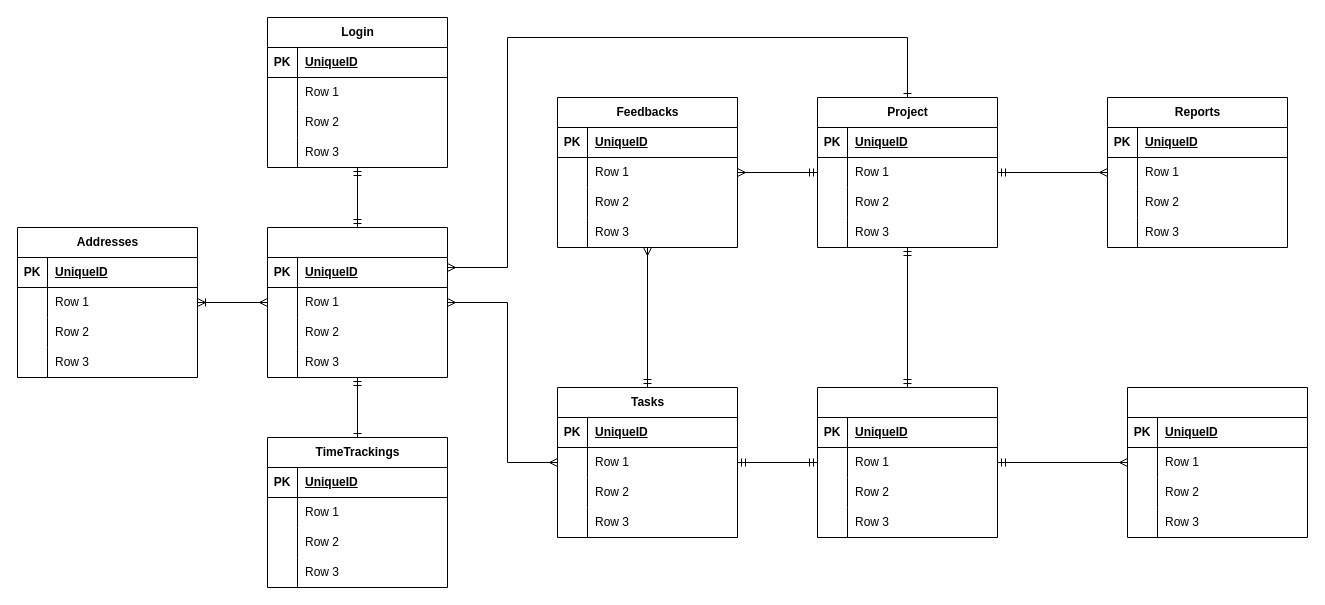
Image size: 1325x605. Some labels were removed from this diagram. The box of each missing label's shape, as (x1, y1, x2, y2) in pixels:
Chats: (816, 386, 998, 538)
Messages: (1126, 386, 1308, 538)
Users: (266, 226, 448, 378)
